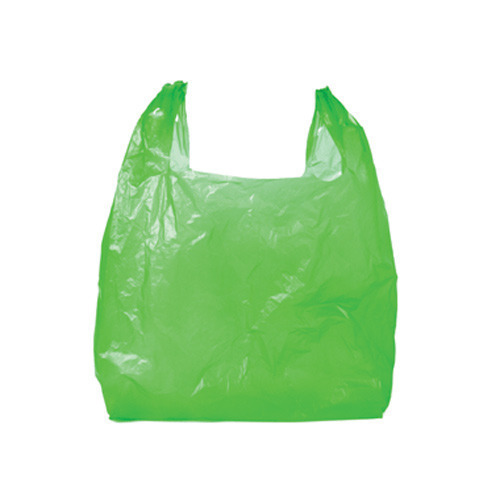plastic: (87, 79, 401, 428)
